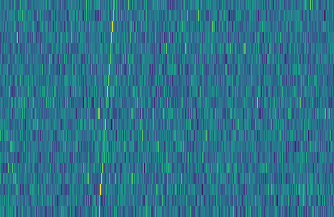signal: (93, 0, 117, 217)
